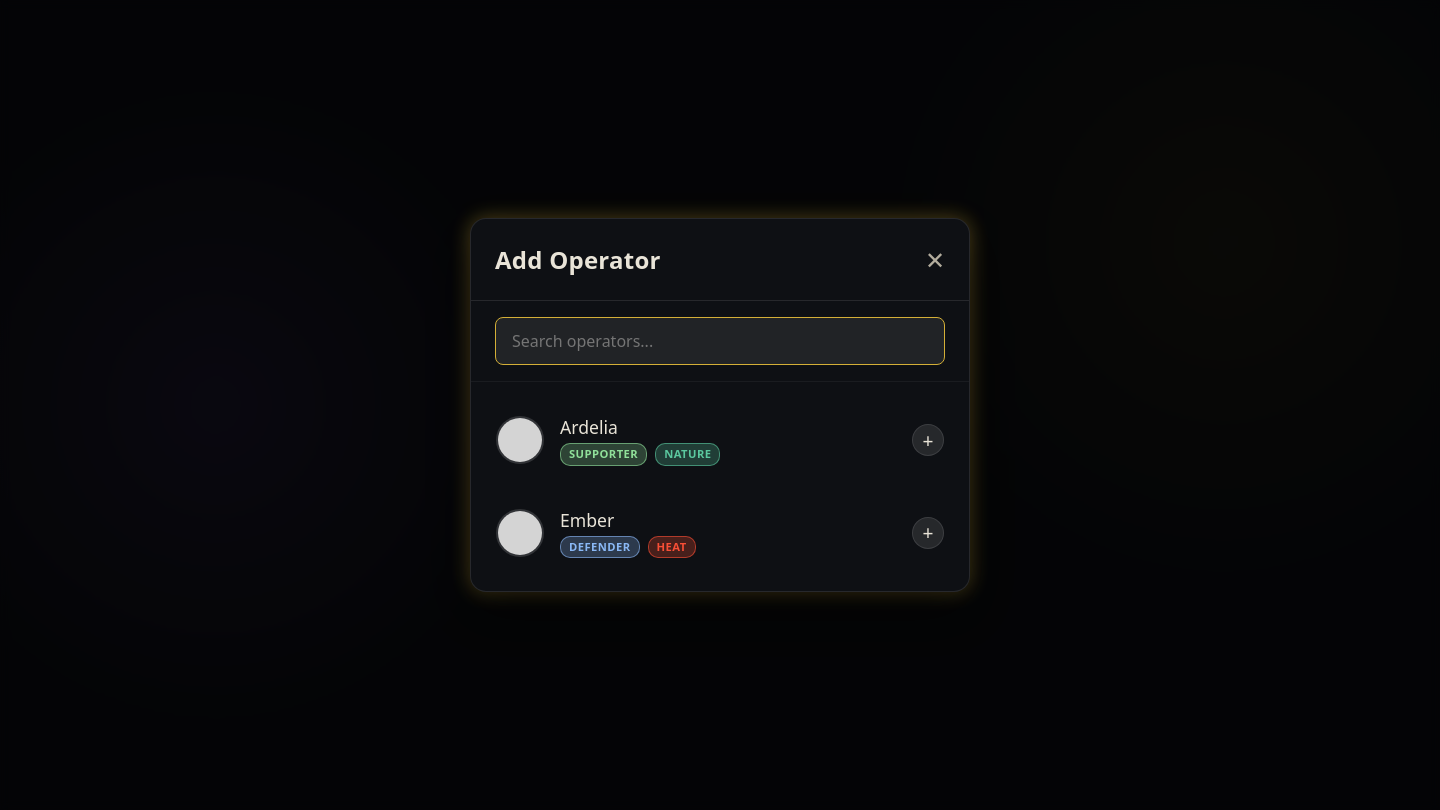
Test: AddOperatorModal › searches by weapon (secondary search key)
Type "Greatsword" into the field with placeholder "Search operators..." at (720, 341), box [495,317,945,365]
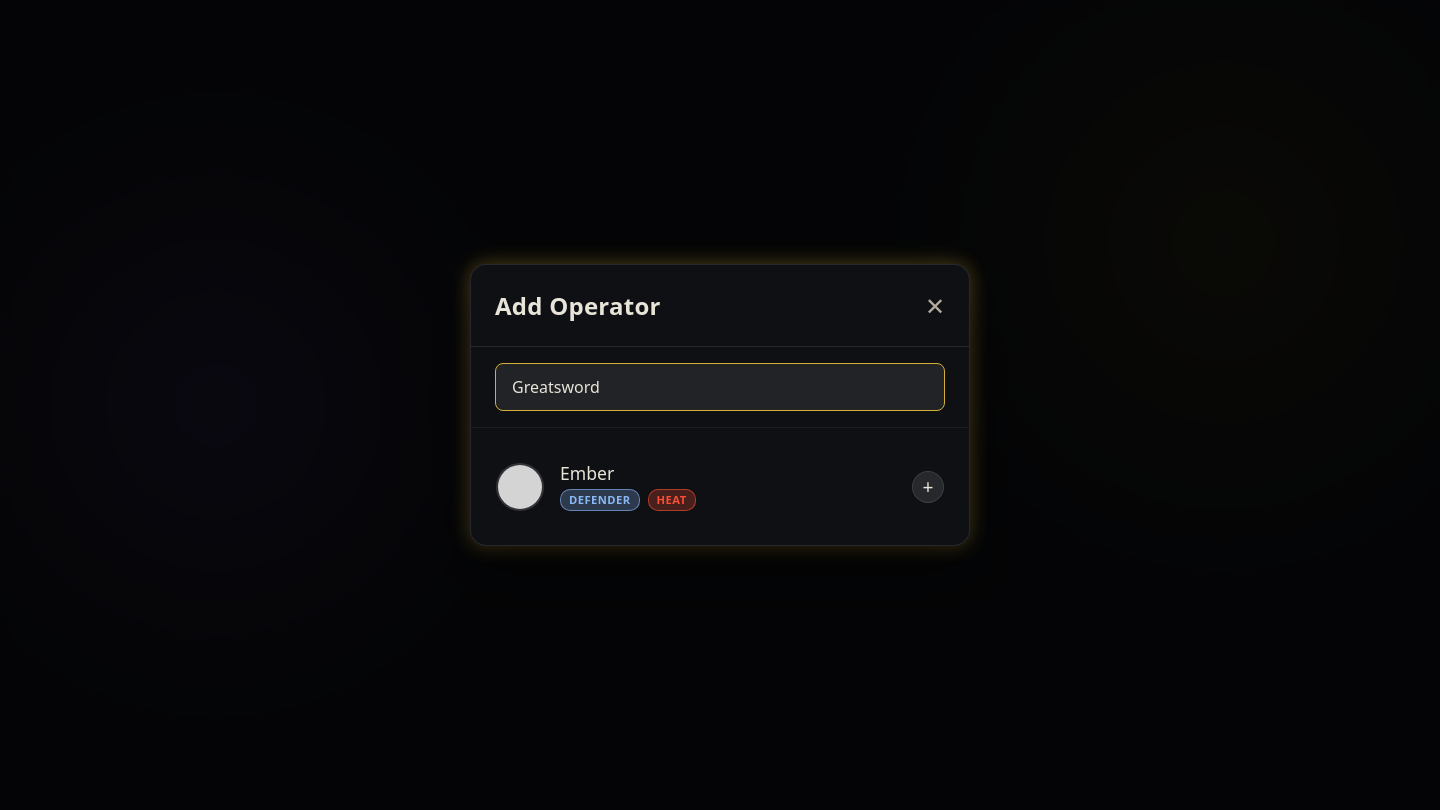
Expected: the text "Ember" is shown, [560,461,614,485]
Expected: the text "Ardelia" is gone
